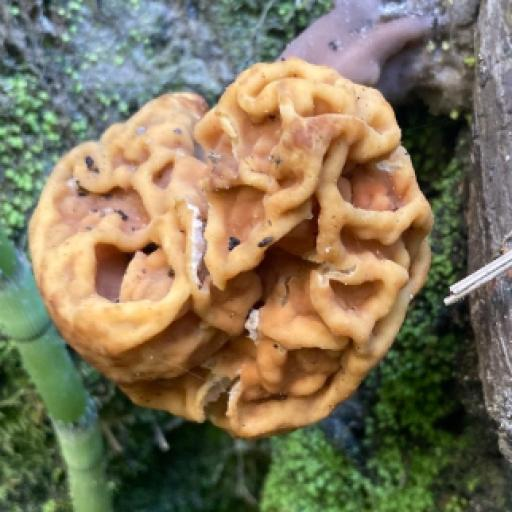False Morel: (20, 47, 458, 462)
